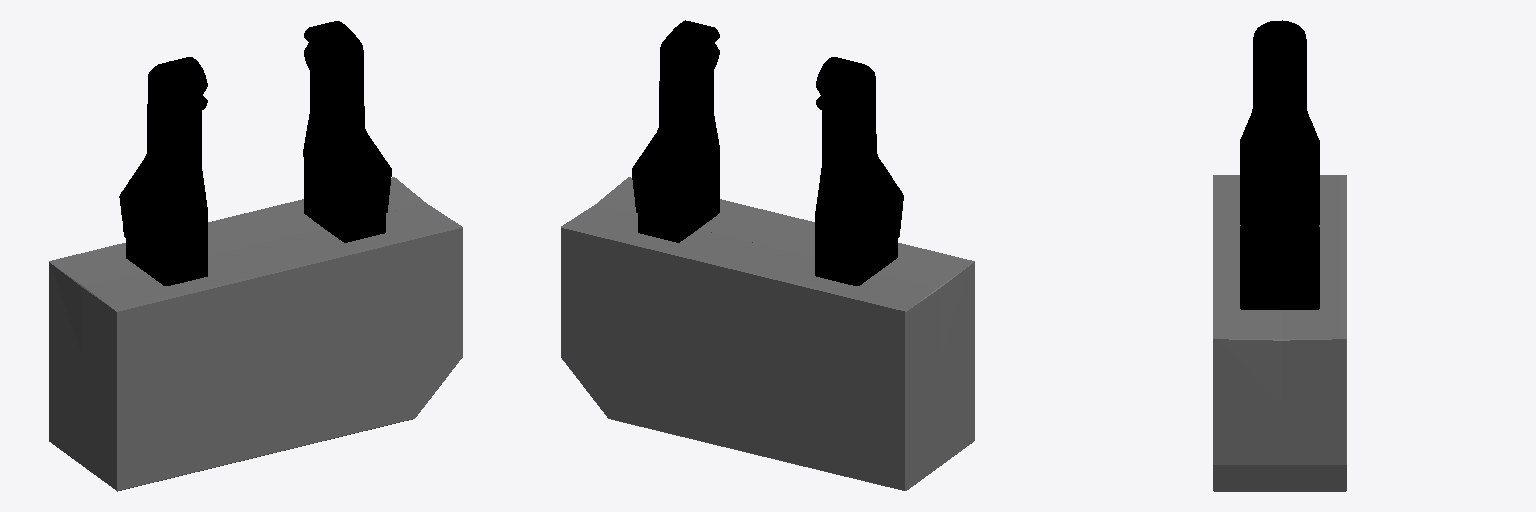
URDF robot description (wsg_50):
<?xml version="1.0"?>
<!-- source: https://github.com/nalt/wsg50-ros-pkg/tree/master/wsg_50_simulation -->
<robot name="wsg_50" 

       xmlns:xi="http://www.w3.org/2001/XInclude"
       xmlns:gazebo="http://playerstage.sourceforge.net/gazebo/xmlschema/#gz"
       xmlns:model="http://playerstage.sourceforge.net/gazebo/xmlschema/#model"
       xmlns:sensor="http://playerstage.sourceforge.net/gazebo/xmlschema/#sensor"
       xmlns:body="http://playerstage.sourceforge.net/gazebo/xmlschema/#body"
       xmlns:geom="http://playerstage.sourceforge.net/gazebo/xmlschema/#geom"
       xmlns:joint="http://playerstage.sourceforge.net/gazebo/xmlschema/#joint"
       xmlns:interface="http://playerstage.sourceforge.net/gazebo/xmlschema/#interface"
       xmlns:rendering="http://playerstage.sourceforge.net/gazebo/xmlschema/#rendering"
       xmlns:renderable="http://playerstage.sourceforge.net/gazebo/xmlschema/#renderable"
       xmlns:controller="http://playerstage.sourceforge.net/gazebo/xmlschema/#controller"
       xmlns:physics="http://playerstage.sourceforge.net/gazebo/xmlschema/#physics">

  <!-- BASE LINK -->
  <link name="base_link">
    <inertial>
      <mass value="1.2" />
      <origin xyz="0 0 0" />
      <inertia  ixx="1.0" ixy="0.0"  ixz="0.0"  iyy="1.0"  iyz="0.0"  izz="1.0" />
    </inertial>

    <visual>
      <origin xyz="0.0 0 0" rpy="0 0 0" />
      <geometry>
        <mesh filename="./meshes/WSG50_110_vhacd.obj" scale="1 1 1"/>
      </geometry>
      <material name="grey">
        <color rgba="0.5 0.5 0.5 1"/>
      </material>
    </visual>

    <collision>
      <origin xyz="0.0 0 0" rpy="0 0 0" />
      <geometry>
        <mesh filename="./meshes/WSG50_110_vhacd.obj" scale="1 1 1"/>
      </geometry>
    </collision>
  </link>

  <!-- GRIPPER LEFT -->

  <joint name="base_joint_gripper_left" type="prismatic">
    <limit lower="-0.055" upper="-0.0027" effort="1.0" velocity="1.0"/>
    <origin xyz="0 0 0" rpy="0 0 0" />      <!--origin xyz="-0.0067 0 0.049" rpy="0 0 0" /-->
    <parent link="base_link"/>
    <child link="gripper_left" />
    <dynamics friction="100" damping="100" />
    <axis xyz="1 0 0"/>
    <limit effort="100" velocity="100"/>
  </joint>

  <link name="gripper_left">
    <inertial>
      <mass value="0.1" />
      <origin xyz="0 0 0" />
      <inertia ixx="1.0" ixy="0.0" ixz="0.0"
                iyy="1.0" iyz="0.0" 
                izz="1.0" />
    </inertial>

    <visual>
      <origin xyz="0.0 0 0" rpy="0 0 0" />
      <geometry>
        <mesh filename="./meshes/GUIDE_WSG50_110_vhacd.obj" scale="0.001 0.001 0.001"/>
      </geometry>
      <material name="black">
        <color rgba="0 0 0 0"/>
      </material>
    </visual>

    <collision>
      <origin xyz="0 0 0" rpy="0 0 0" />
      <geometry>
        <mesh filename="./meshes/GUIDE_WSG50_110_vhacd.obj" scale="0.001 0.001 0.001"/>
      </geometry>
    </collision>
  </link>

  <!-- LEFT FINGER -->

  <joint name="guide_joint_finger_left" type="fixed">
    <origin xyz="0 0 0.023" rpy="0 0 0" />
    <parent link="gripper_left"/>
    <child link="finger_left" />
    <dynamics friction="100" damping="100" />
    <axis xyz="1 0 0"/>
    <limit effort="100" velocity="100"/>
  </joint>

  <link name="finger_left">
    <inertial>
      <mass value="0.1" />
      <origin xyz="0 0 0" />
      <inertia ixx="1.0" ixy="0.0" ixz="0.0"
                iyy="1.0" iyz="0.0" 
                izz="1.0" />
    </inertial>

    <visual>
      <origin xyz="0.0 0 0" rpy="0 0 0" />
      <geometry>
        <mesh filename="./meshes/WSG-FMF_vhacd.obj" scale="0.001 0.001 0.001"/>
      </geometry>
      <material name="black">
        <color rgba="0 0 0 0"/>
      </material>
    </visual>

    <collision>
      <origin xyz="0 0 0" rpy="0 0 0" />
      <geometry>
        <mesh filename="./meshes/WSG-FMF_vhacd.obj" scale="0.001 0.001 0.001"/>
      </geometry>
    </collision>
  </link>

  <!-- GRIPPER RIGHT -->

  <joint name="base_joint_gripper_right" type="prismatic">
     <limit lower="0.0027" upper="0.055" effort="1.0" velocity="1.0"/>
     <origin xyz="0 0 0" rpy="0 0 3.14159" />
     <parent link="base_link"/>
     <child link="gripper_right" />
     <axis xyz="-1 0 0"/>
     <dynamics friction="100" damping="100" />
     <limit effort="100" velocity="100"/>
  </joint>
	
  <link name="gripper_right">
    <inertial>
      <mass value="0.1" />
      <origin xyz="0 0 0" />
      <inertia ixx="1.0" ixy="0.0" ixz="0.0"
              iyy="1.0" iyz="0.0" 
              izz="1.0" />
    </inertial>

    <visual>
      <origin xyz="0.0 0 0" rpy="0 0 0" />
      <geometry>
        <mesh filename="./meshes/GUIDE_WSG50_110_vhacd.obj" scale="0.001 0.001 0.001"/>
      </geometry>
      <material name="black">
        <color rgba="0 0 0 0"/>
      </material>
    </visual>

    <collision>
      <origin xyz="0 0 0" rpy="0 0 0" />
      <geometry>
        <mesh filename="./meshes/GUIDE_WSG50_110_vhacd.obj" scale="0.001 0.001 0.001"/>
      </geometry>
    </collision>
  </link>

  <!-- RIGHT FINGER -->

  <joint name="guide_joint_finger_right" type="fixed">
    <origin xyz="0 0 0.023" rpy="0 0 0" />
    <parent link="gripper_right"/>
    <child link="finger_right" />
    <dynamics friction="100" damping="100" />
    <axis xyz="1 0 0"/>
    <limit effort="100" velocity="100"/>
  </joint>

  <link name="finger_right">
    <inertial>
      <mass value="0.1" />
      <origin xyz="0 0 0" />
      <inertia ixx="1.0" ixy="0.0" ixz="0.0"
                iyy="1.0" iyz="0.0" 
                izz="1.0" />
    </inertial>

    <visual>
      <origin xyz="0.0 0 0" rpy="0 0 0" />
      <geometry>
        <mesh filename="./meshes/WSG-FMF_vhacd.obj" scale="0.001 0.001 0.001"/>
      </geometry>
      <material name="black">
        <color rgba="0 0 0 0"/>
      </material>
    </visual>

    <collision>
      <origin xyz="0 0 0" rpy="0 0 0" />
      <geometry>
        <mesh filename="./meshes/WSG-FMF_vhacd.obj" scale="0.001 0.001 0.001"/>
      </geometry>
    </collision>
  </link>

</robot>

--- What the picture shows (computed from the rendered views, not written in the file) ---
The picture shows the robot from 3 angles, left to right: view 1: azimuth 30°, elevation 25°; view 2: azimuth 150°, elevation 25°; view 3: azimuth 270°, elevation 25°; orthographic projection.
Model wsg_50 with 5 links and 4 joints (2 prismatic, 2 fixed), rooted at base_link, posed joints at zero except 2 at the middle of their limits (base_joint_gripper_left = -0.0289, base_joint_gripper_right = 0.0289).
Visible links, largest first — view 1: base_link, finger_left, finger_right, gripper_right, gripper_left; view 2: base_link, finger_left, finger_right, gripper_right, gripper_left; view 3: base_link, finger_right, finger_left, gripper_right, gripper_left.
Link boxes in pixels (x1=…): base_link: x1=49, y1=177, x2=462, y2=491; finger_left: x1=119, y1=57, x2=207, y2=266; finger_right: x1=303, y1=21, x2=391, y2=217; gripper_right: x1=304, y1=157, x2=385, y2=242; gripper_left: x1=126, y1=220, x2=207, y2=285; base_link: x1=561, y1=177, x2=974, y2=490; finger_left: x1=815, y1=57, x2=903, y2=266; finger_right: x1=632, y1=20, x2=719, y2=217; gripper_right: x1=638, y1=157, x2=719, y2=242; gripper_left: x1=815, y1=220, x2=897, y2=285; base_link: x1=1213, y1=175, x2=1346, y2=491; finger_right: x1=1240, y1=91, x2=1319, y2=290; finger_left: x1=1240, y1=20, x2=1319, y2=181; gripper_right: x1=1240, y1=265, x2=1319, y2=309; gripper_left: x1=1240, y1=170, x2=1319, y2=224.
Size in the robot's own frame: 0.1464 by 0.0505 by 0.1538 metres.
5 mesh visuals loaded from 3 distinct referenced files (3 OBJ).